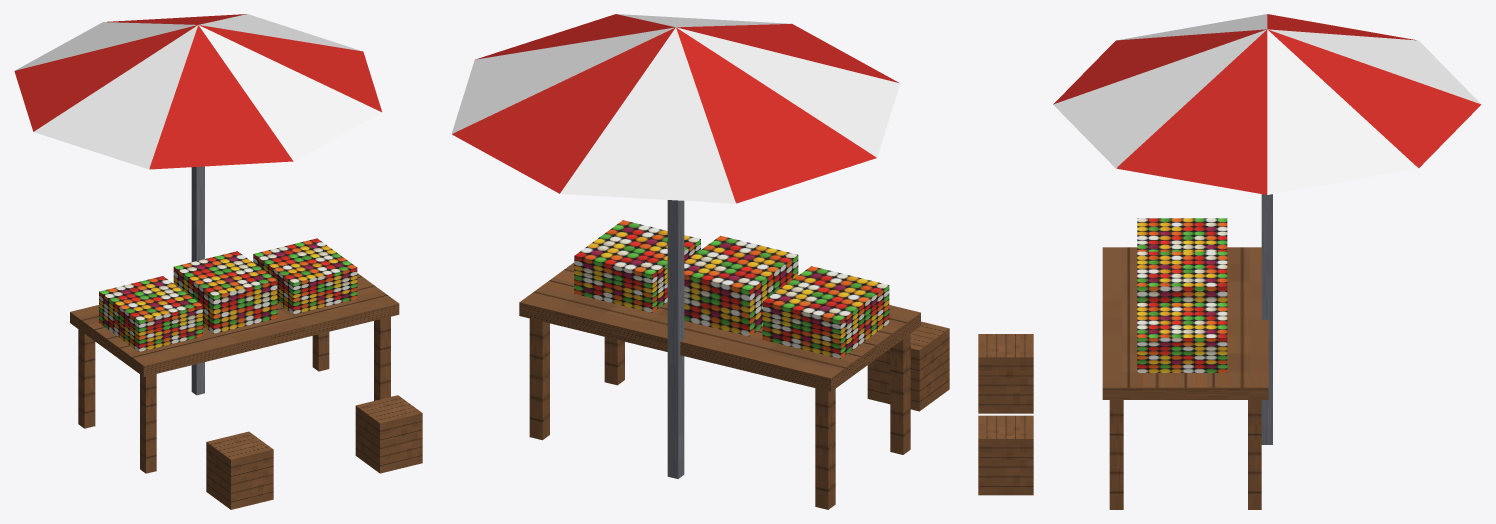
Rendered from stall-teal-far.glb.
3 views of the same model, side by side, from view 1: azimuth 30°, elevation 25°; view 2: azimuth 150°, elevation 25°; view 3: azimuth 270°, elevation 25° (orthographic). The views are drawn at different scales.
Parts seen in each view (by area): view 1: stall-teal; view 2: stall-teal; view 3: stall-teal.
Boxes of the visible parts, box(x1,y1,x2,y2) form: stall-teal: box(14, 14, 422, 509); stall-teal: box(451, 14, 949, 509); stall-teal: box(978, 14, 1481, 509).
Bounding box in the file's own units: 3.1 × 3.3 × 3.64.
1 material, 1 textured.
